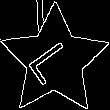L_NE: (26, 33, 83, 88)
